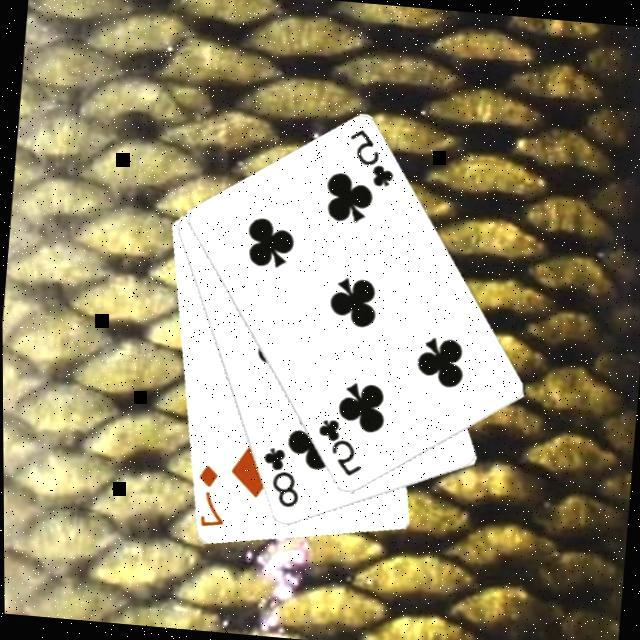5C: (343, 128, 400, 194), (310, 417, 367, 482)
7D: (190, 462, 230, 533)
8C: (256, 444, 306, 514)
